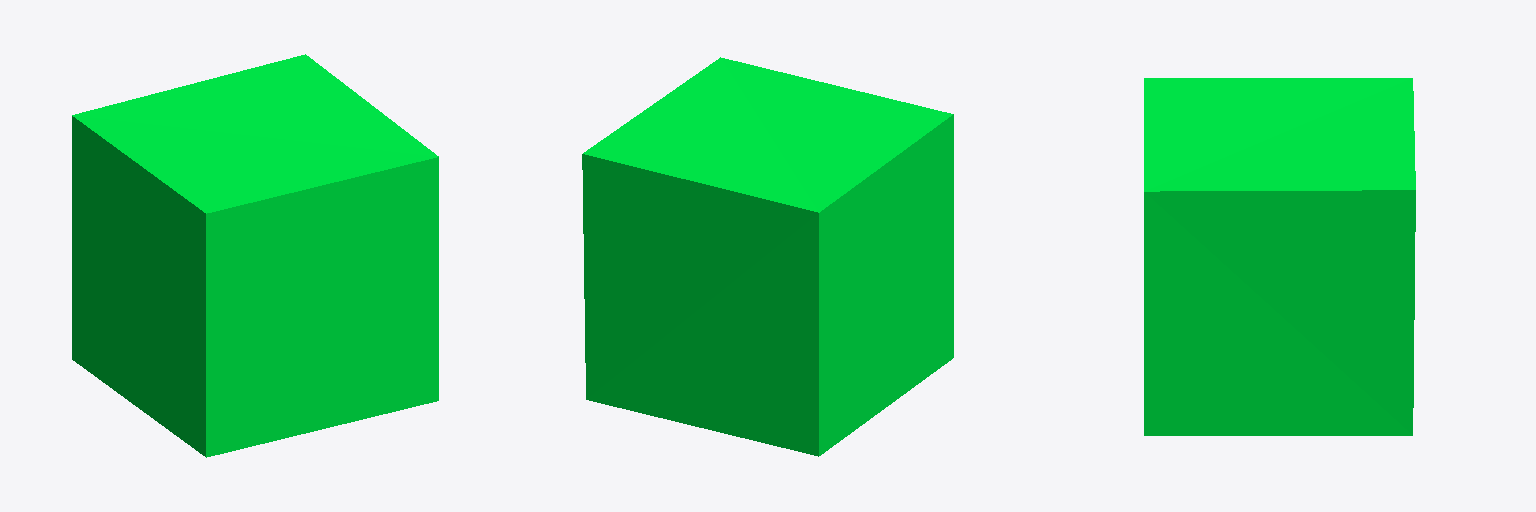
3 renders of one model, left to right at view 1: azimuth 30°, elevation 25°; view 2: azimuth 150°, elevation 25°; view 3: azimuth 270°, elevation 25°, orthographic.
Parts seen in each view (by area): view 1: Cube; view 2: Cube; view 3: Cube.
Boxes of the visible parts, x1,y1,x2,y2 form: Cube: [72, 54, 438, 457]; Cube: [582, 57, 953, 456]; Cube: [1144, 78, 1415, 435].
Bounding box in the file's own units: 2.02 × 2.02 × 2.02.
1 materials, 1 textured.